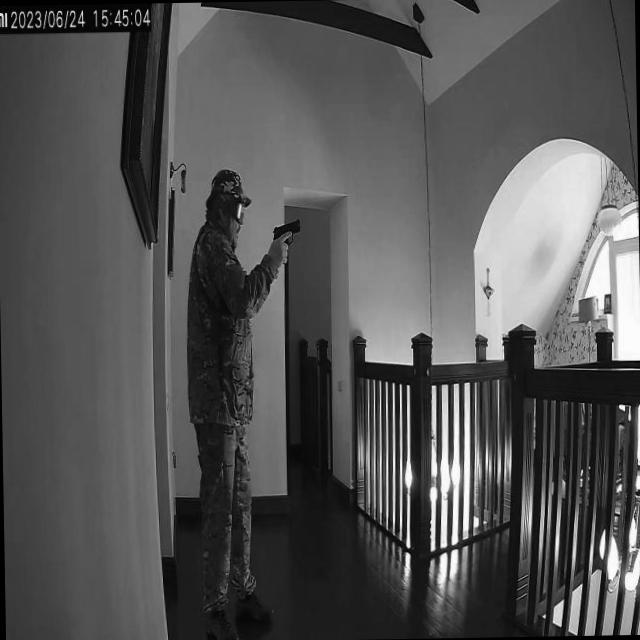gun: (269, 214, 303, 262)
person with a gun: (182, 165, 276, 640)
